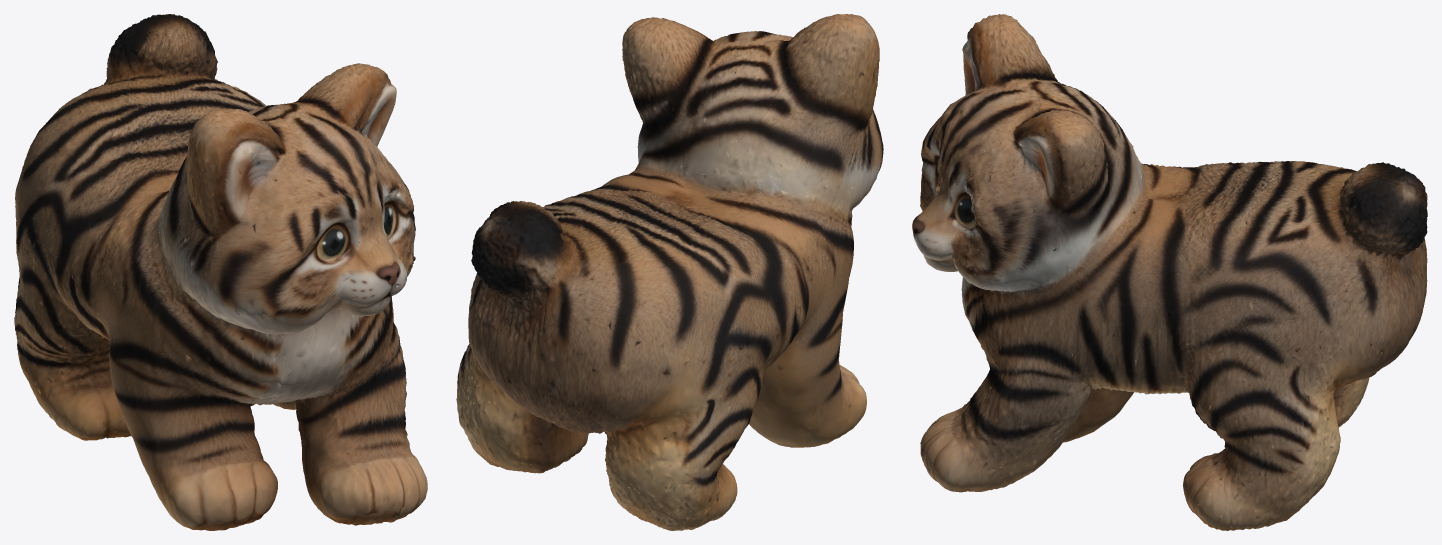
File: cat1.glb
3 views of the same model, side by side, from view 1: azimuth 30°, elevation 25°; view 2: azimuth 150°, elevation 25°; view 3: azimuth 270°, elevation 25° (orthographic). The views are drawn at different scales.
Size of the model in its own units: 1.3 by 1.75 by 2.
Materials: 1 (1 with a texture image).
